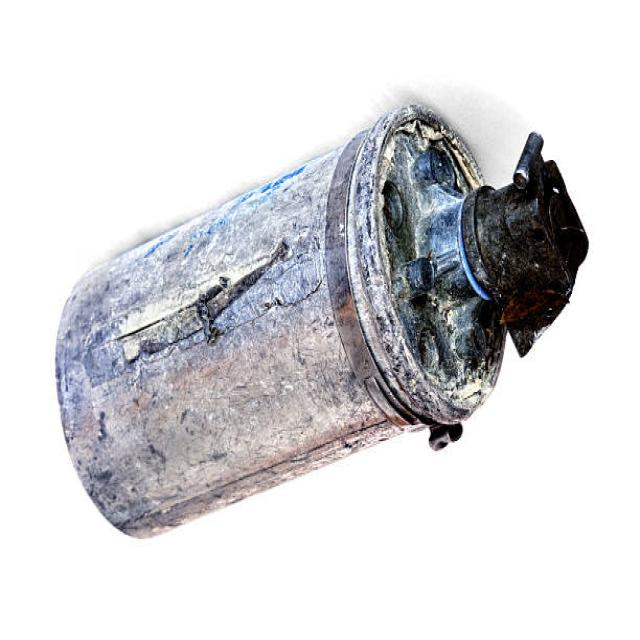grenade: (47, 100, 600, 551)
